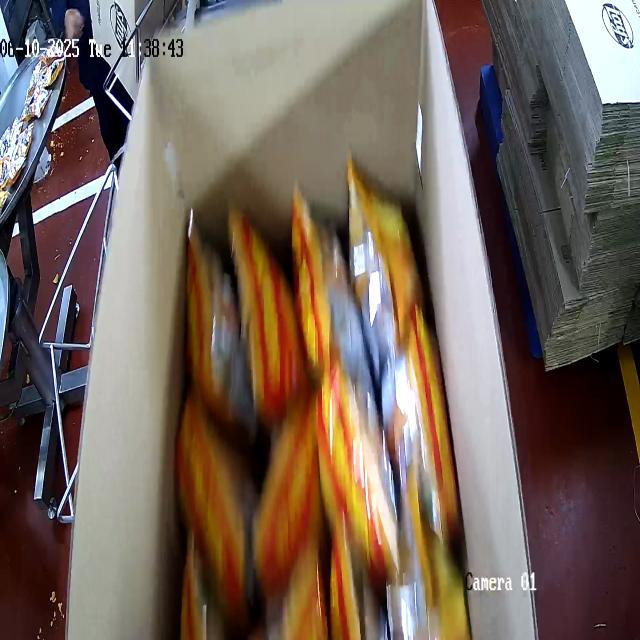FRENCH_CHEESE: (191, 169, 463, 640)
